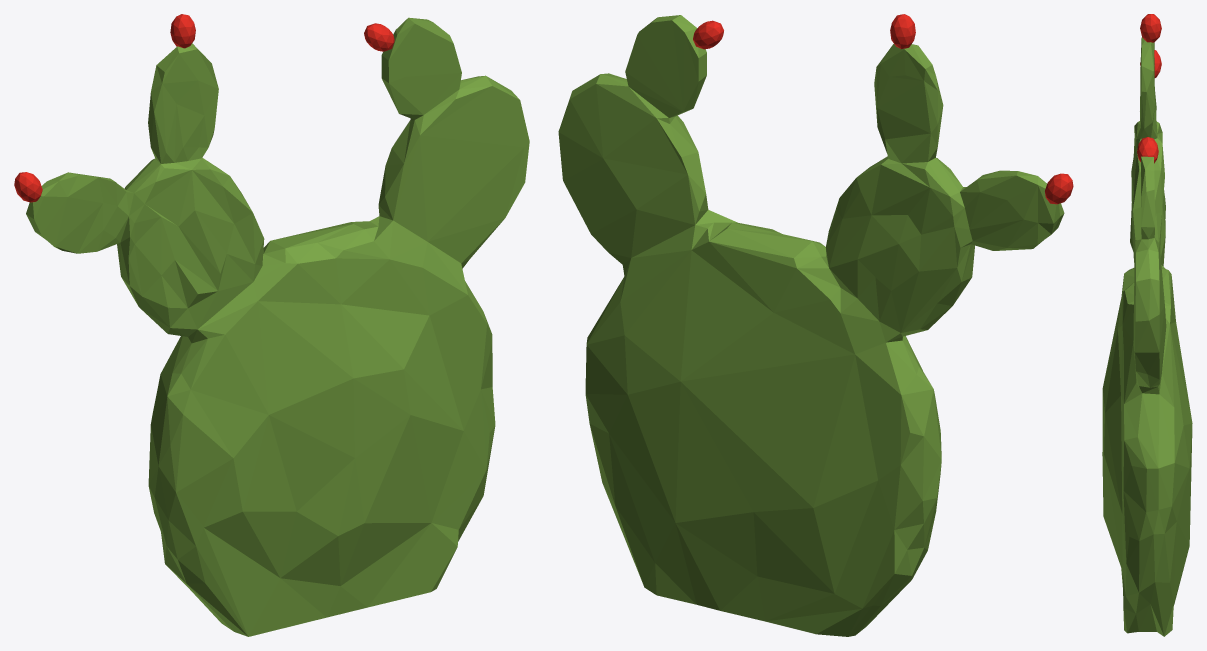
Rendered from cactus_03.glb.
3 views of the same model, side by side, from view 1: azimuth 30°, elevation 25°; view 2: azimuth 150°, elevation 25°; view 3: azimuth 270°, elevation 25° (orthographic). The views are drawn at different scales.
Visible parts, largest first — view 1: cactus_6.003; view 2: cactus_6.003; view 3: cactus_6.003.
Boxes of the visible parts, x1=… form: cactus_6.003: x1=14, y1=14, x2=529, y2=636; cactus_6.003: x1=558, y1=14, x2=1073, y2=636; cactus_6.003: x1=1102, y1=14, x2=1192, y2=636.
Size of the model in its own units: 0.7023 by 0.8243 by 0.1289.
